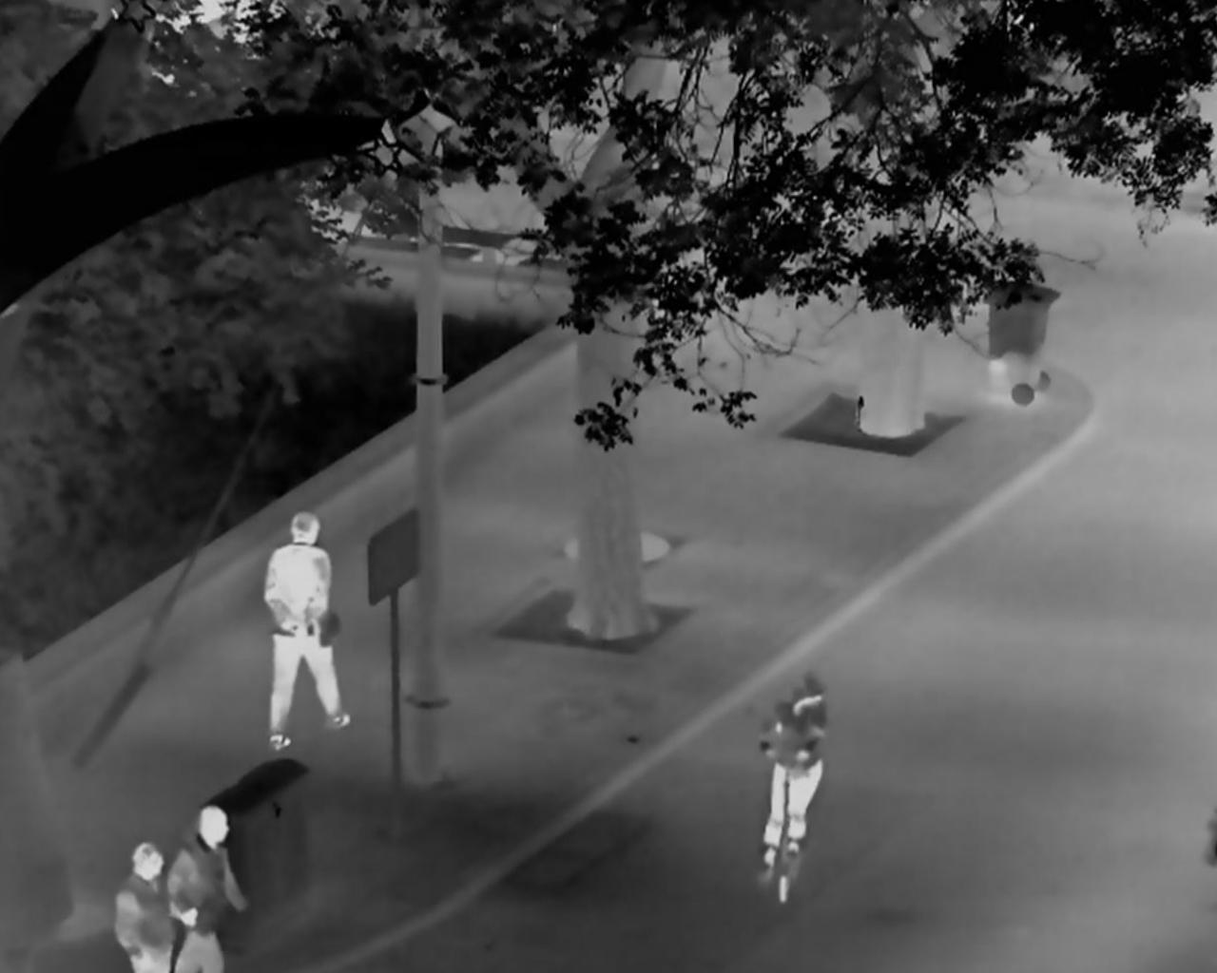person: (263, 510, 352, 750), (167, 804, 249, 973), (758, 673, 825, 869), (114, 843, 174, 973)
